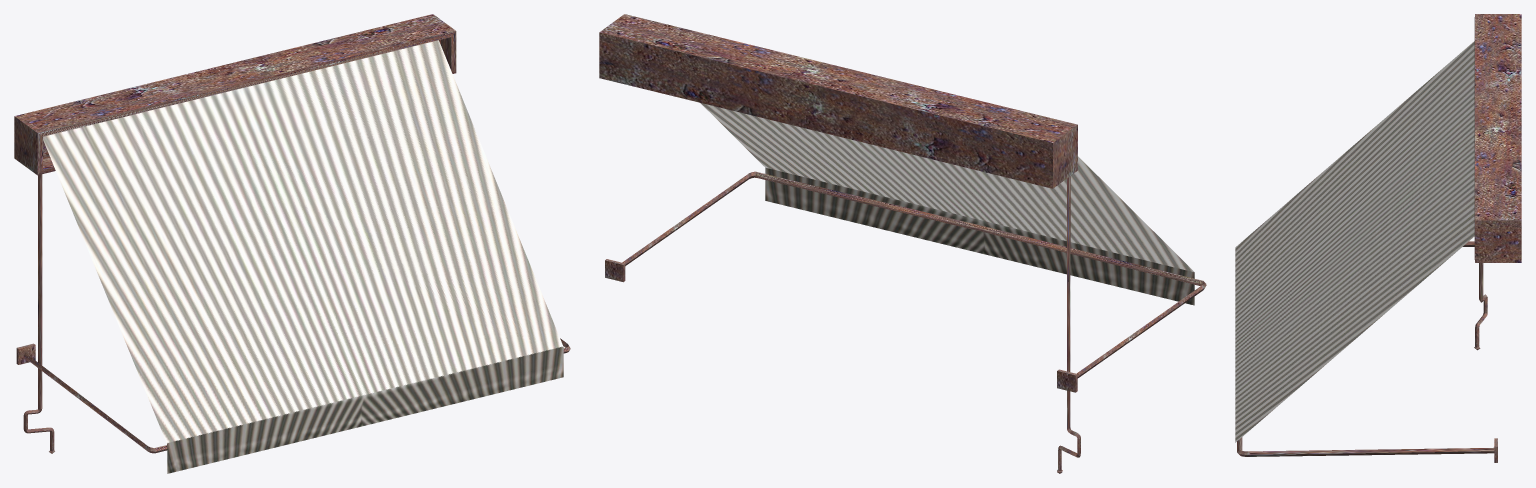
File: awning_roll.fbx
3 views of the same model, side by side, from view 1: azimuth 30°, elevation 25°; view 2: azimuth 150°, elevation 25°; view 3: azimuth 270°, elevation 25° (orthographic). The views are drawn at different scales.
Parts seen in each view (by area): view 1: canvas0, frame0; view 2: frame0, canvas0; view 3: canvas0, frame0.
Boxes of the visible parts, <box> form: canvas0: <box>43,40,563,473</box>; frame0: <box>14,14,570,453</box>; frame0: <box>599,14,1206,473</box>; canvas0: <box>700,103,1194,305</box>; canvas0: <box>1235,41,1474,442</box>; frame0: <box>1237,14,1521,462</box>.
Bounding box in the file's own units: 1.33 × 0.9532 × 0.753.
